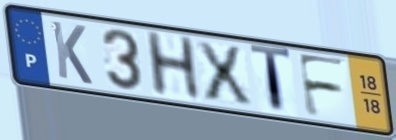3: (99, 27, 143, 92)
F: (294, 51, 348, 120)
H: (142, 29, 204, 101)
K: (48, 18, 95, 88)
T: (248, 42, 294, 119)
X: (192, 39, 255, 107)
